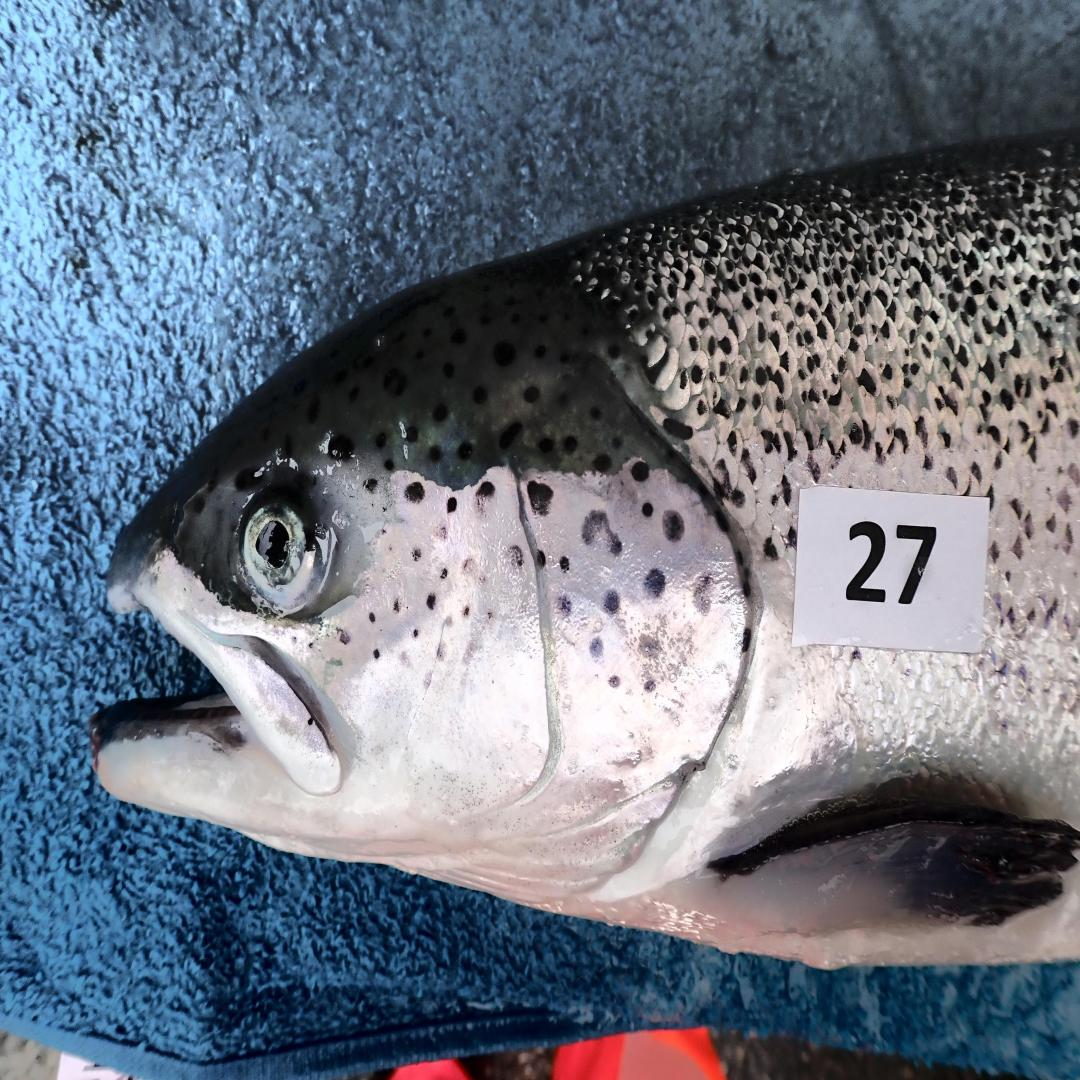spot: (582, 509, 622, 554), (690, 574, 717, 616), (527, 481, 553, 515), (475, 481, 496, 515), (662, 509, 683, 543), (643, 568, 667, 596), (631, 461, 650, 484), (603, 591, 620, 616), (506, 546, 525, 568), (405, 481, 424, 503), (557, 593, 572, 619), (589, 636, 603, 661), (462, 557, 477, 577), (536, 551, 546, 579), (742, 628, 751, 653), (641, 501, 654, 518), (447, 498, 458, 515), (426, 593, 437, 610), (643, 678, 656, 692), (338, 629, 350, 644), (411, 546, 422, 562), (437, 523, 447, 540), (559, 557, 570, 571), (610, 675, 620, 689), (411, 624, 420, 638), (367, 610, 375, 624), (485, 610, 494, 622), (373, 647, 380, 661), (462, 605, 470, 616), (393, 600, 400, 612), (441, 568, 447, 579)
